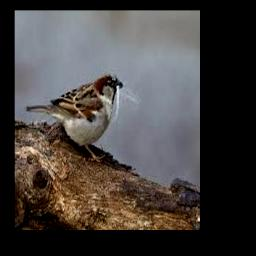Sparrow: (25, 72, 123, 162)
